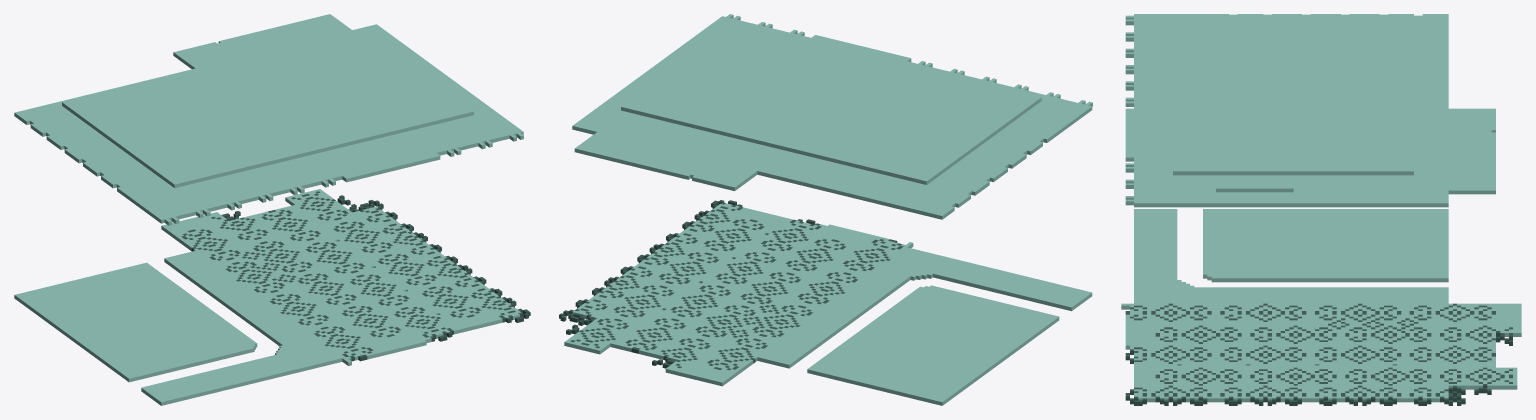
File: floor.obj
3 views of the same model, side by side, from view 1: azimuth 30°, elevation 25°; view 2: azimuth 150°, elevation 25°; view 3: azimuth 270°, elevation 25° (orthographic). The views are drawn at different scales.
Parts seen in each view (by area): view 1: floor; view 2: floor; view 3: floor.
Part boxes in pixels (box(x1,y1,x2,y2)): floor: box(14, 14, 530, 405); floor: box(559, 14, 1092, 405); floor: box(1121, 14, 1521, 405).
Size of the model in its own units: 106 by 55 by 93.
1 material, 1 textured.
